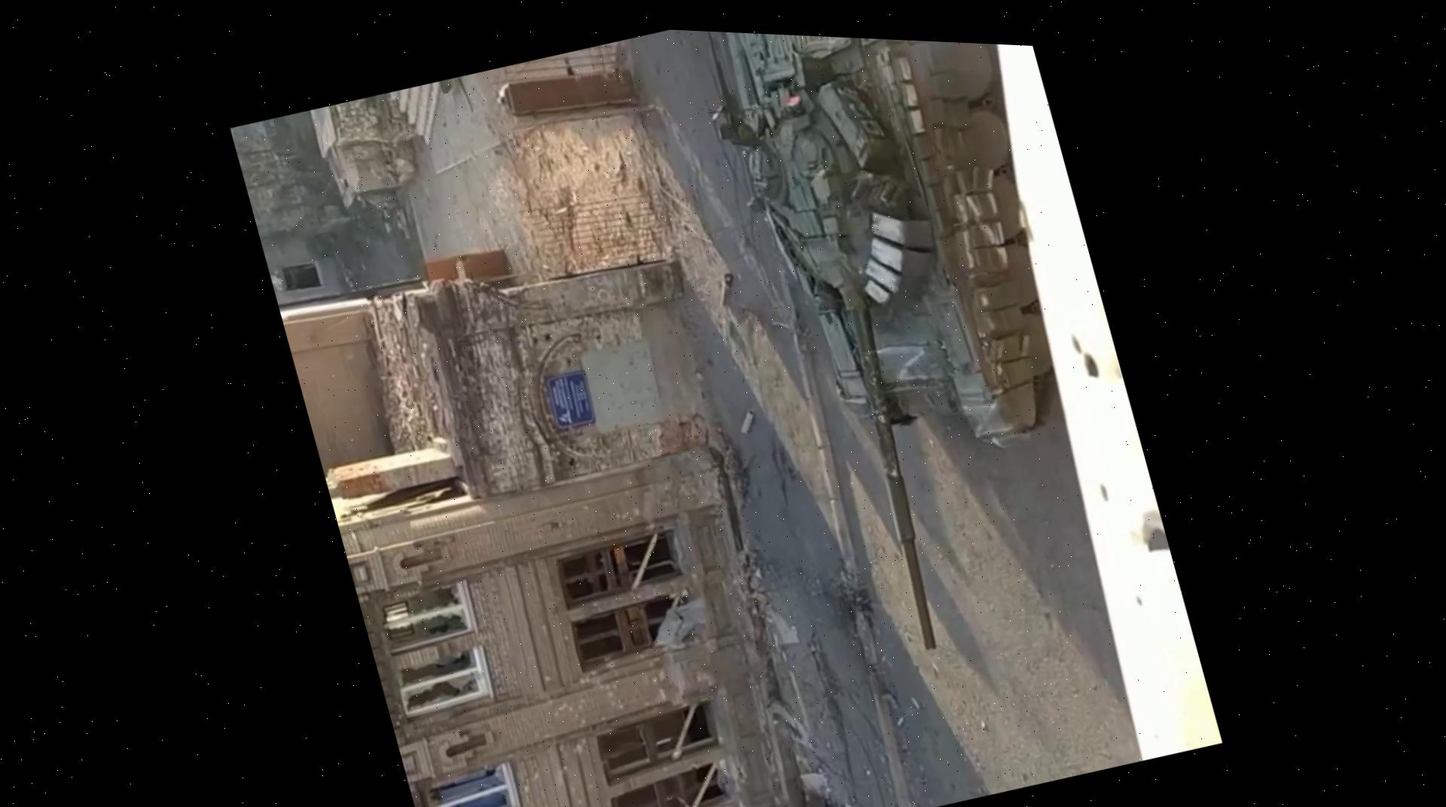car: (692, 31, 1140, 681)
